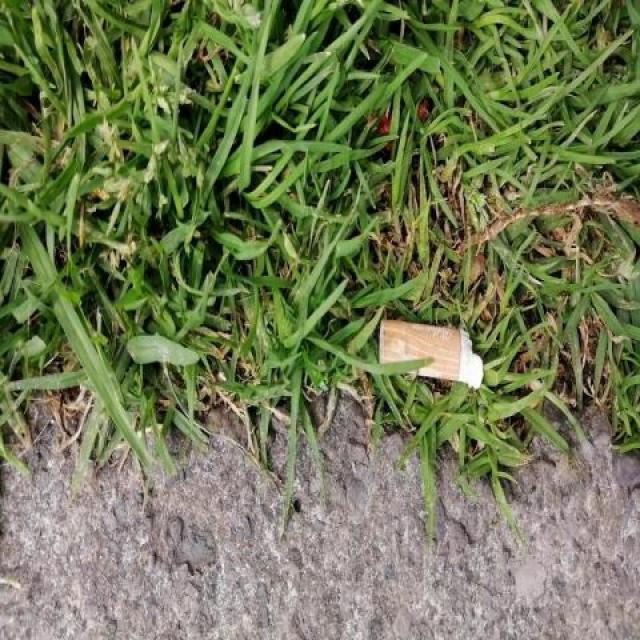non-organic waste: (375, 317, 486, 394)
